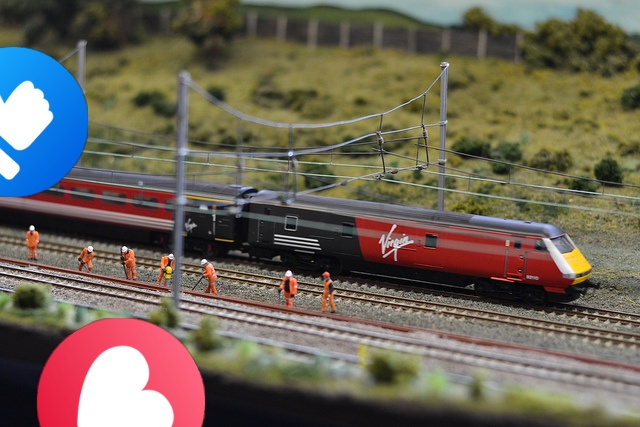like: (0, 47, 88, 197)
love: (37, 318, 205, 427)
